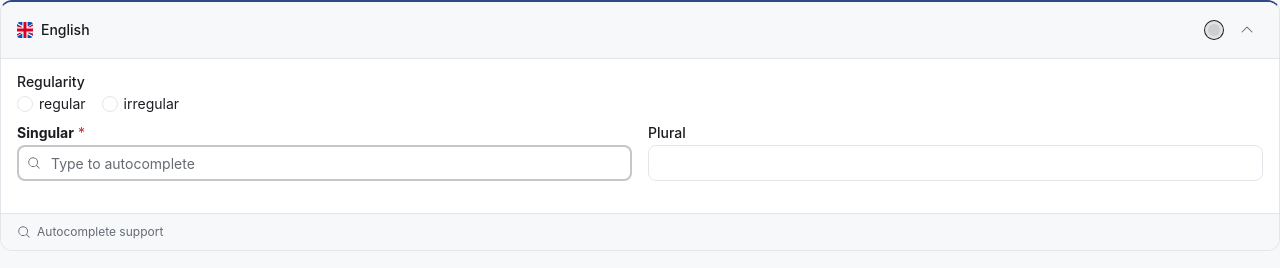
TranslationCard › collapse › shows a muted "nothing entered yet" hint when collapsed with no cases
Click the button named "Collapse translation" at point(1247, 30), box left=1231, top=14, right=1263, bottom=46
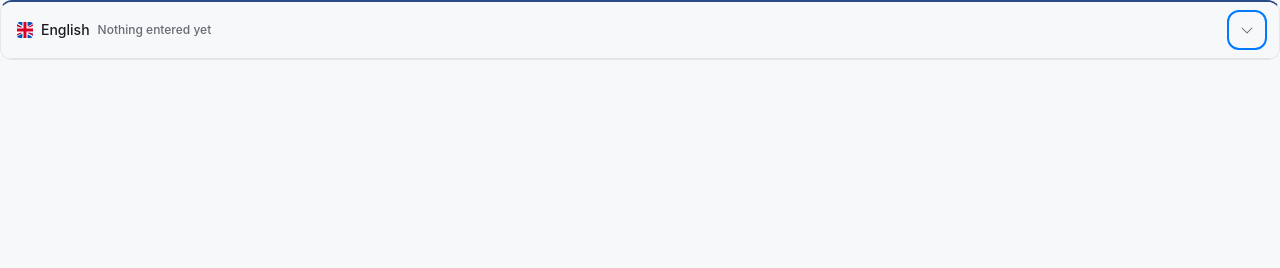
Check: the text "Nothing entered yet" is shown, box left=98, top=21, right=211, bottom=38
